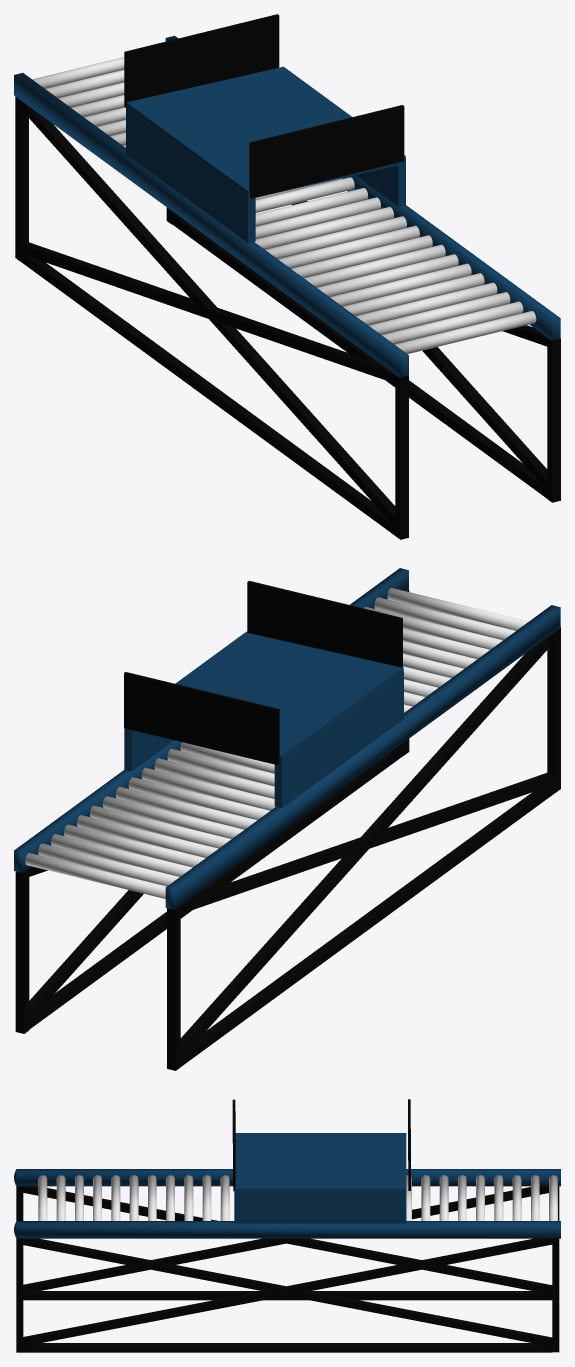
The model's file is Conveyor.fbx.
The picture shows the model from 3 angles, top to bottom: view 1: azimuth 30°, elevation 25°; view 2: azimuth 150°, elevation 25°; view 3: azimuth 270°, elevation 25°; orthographic projection. The views are drawn at different scales.
Parts seen in each view (by area): view 1: Belt, Roof_2, Door_1, Door_2, Beam_3, Beam_1, Floor_2, Beam_4, Beam_2, Beam_5, Leg_4, Leg_3 (+20 smaller); view 2: Belt, Roof_2, Door_2, Door_1, Beam_4, Beam_1, Floor_2, Beam_3, Beam_2, Leg_2, Beam_6, Leg_1 (+21 smaller); view 3: Belt, Roof_2, Floor_1, Beam_5, Beam_6, Beam_2, Beam_1, Beam_4, Beam_3, Leg_2, Leg_4, Cylinder 10 (+18 smaller).
Part boxes in pixels (<box>): Belt: <box>14,35,560,377</box>; Roof_2: <box>126,66,405,197</box>; Door_1: <box>249,105,404,198</box>; Door_2: <box>124,14,279,107</box>; Beam_3: <box>20,100,395,526</box>; Beam_1: <box>20,254,395,535</box>; Floor_2: <box>126,107,255,243</box>; Beam_4: <box>20,242,395,383</box>; Beam_2: <box>172,217,547,498</box>; Beam_5: <box>291,201,547,489</box>; Leg_4: <box>547,338,560,502</box>; Leg_3: <box>395,375,408,539</box>; Belt: <box>14,568,560,909</box>; Roof_2: <box>132,631,403,764</box>; Door_2: <box>124,672,279,765</box>; Door_1: <box>247,580,402,667</box>; Beam_4: <box>180,631,555,1058</box>; Beam_1: <box>180,784,555,1066</box>; Floor_2: <box>274,672,403,807</box>; Beam_3: <box>180,772,555,913</box>; Beam_2: <box>29,747,403,1029</box>; Leg_2: <box>15,868,29,1033</box>; Beam_6: <box>29,890,143,1021</box>; Leg_1: <box>167,906,180,1070</box>; Belt: <box>14,1169,560,1238</box>; Roof_2: <box>234,1133,406,1190</box>; Floor_1: <box>234,1190,406,1223</box>; Beam_5: <box>20,1238,553,1345</box>; Beam_6: <box>21,1238,553,1346</box>; Beam_2: <box>21,1343,552,1352</box>; Beam_1: <box>23,1291,552,1300</box>; Beam_4: <box>21,1186,552,1293</box>; Beam_3: <box>23,1186,548,1293</box>; Leg_2: <box>552,1238,559,1352</box>; Leg_4: <box>16,1238,23,1352</box>; Cylinder 10: <box>184,1175,193,1220</box>.
Bounding box in the file's own units: 718 × 1205 × 2999.
